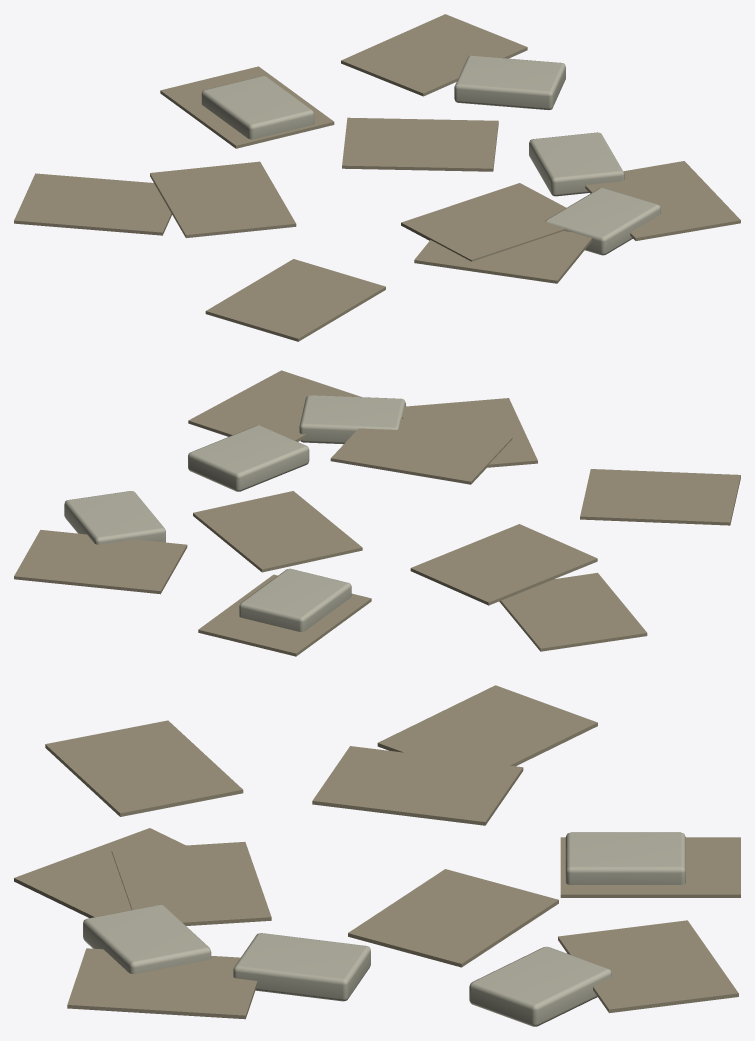
Rendered from debris.glb.
The picture shows the model from 3 angles, top to bottom: view 1: azimuth 30°, elevation 25°; view 2: azimuth 150°, elevation 25°; view 3: azimuth 270°, elevation 25°; orthographic projection. The views are drawn at different scales.
Visible parts, largest first — view 1: debris; view 2: debris; view 3: debris.
Boxes of the visible parts, box(x1,y1,x2,y2) form: debris: box(14, 14, 740, 341); debris: box(14, 370, 740, 656); debris: box(14, 685, 740, 1026).
Size of the model in its own units: 1.56 by 0.05 by 1.45.
